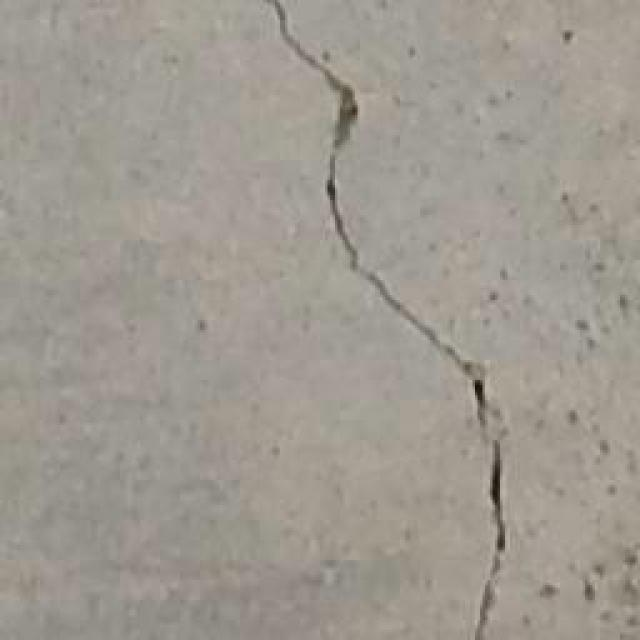concrete-crack: (268, 0, 488, 435), (468, 442, 505, 640)
